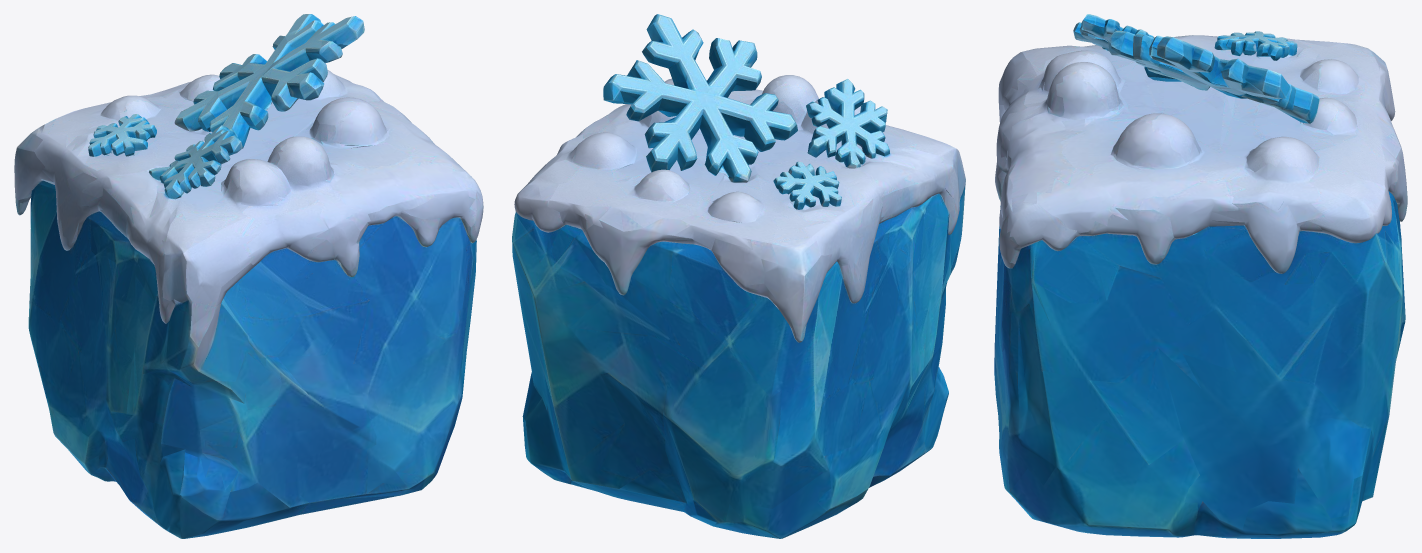
The model's file is p_fridge.glb.
The picture shows the model from 3 angles, left to right: view 1: azimuth 30°, elevation 25°; view 2: azimuth 150°, elevation 25°; view 3: azimuth 270°, elevation 25°; orthographic projection. The views are drawn at different scales.
Bounding box in the file's own units: 1.48 × 1.9 × 1.49.
1 material, 1 textured.
